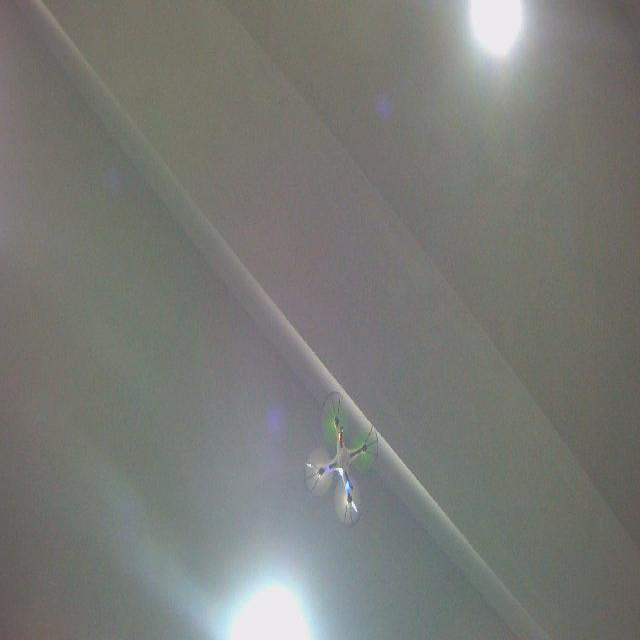drone: (303, 388, 381, 530)
